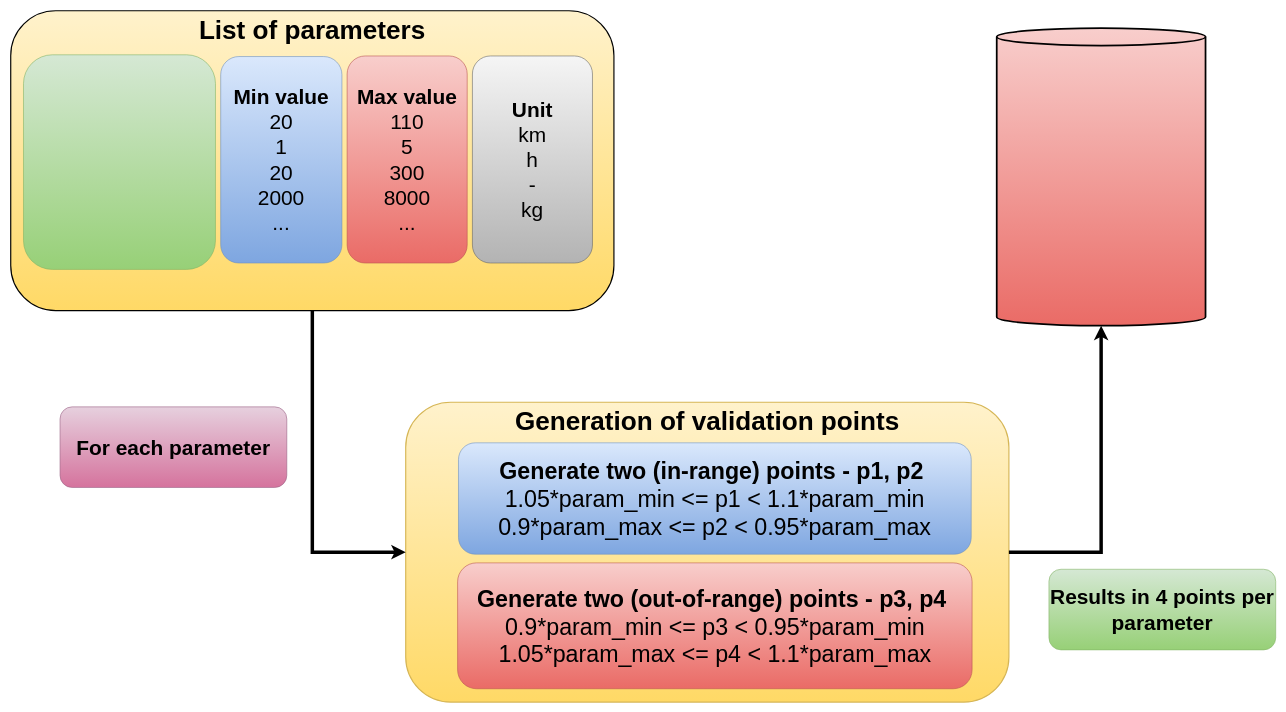
The diagram is 1286 pixels wide and 712 high, and some of its shapes have lost their labels. The centre of each missing label's shape, as x and y in pixels:
Database of validation points for Task 1: point (1101, 176)
Parameter name Distance Idle time Stops Axle 1 load ...: point (119, 161)
